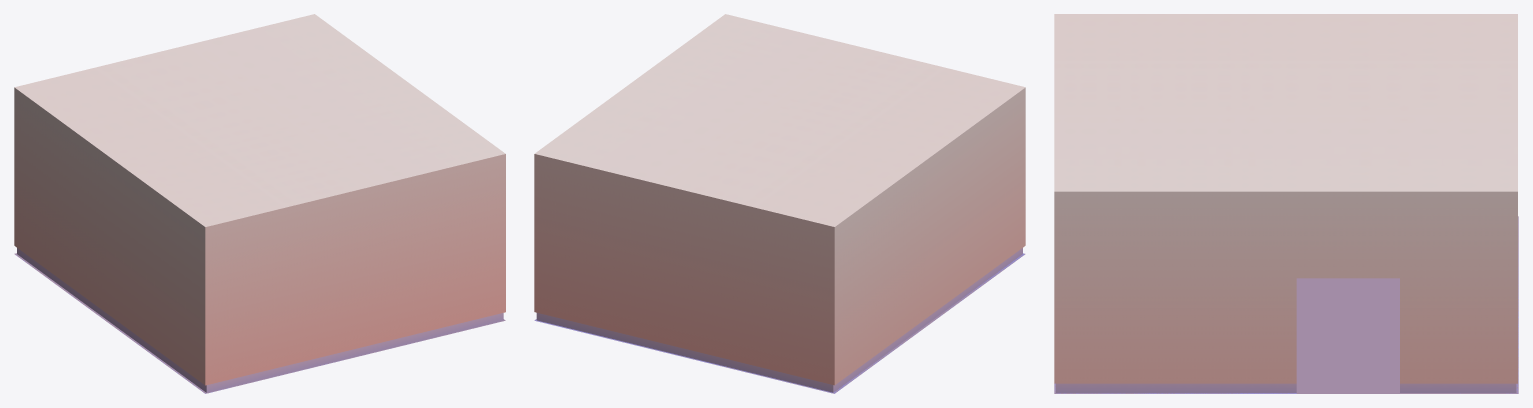
Rendered from MapRoom.fbx.
3 views of the same model, side by side, from view 1: azimuth 30°, elevation 25°; view 2: azimuth 150°, elevation 25°; view 3: azimuth 270°, elevation 25° (orthographic). The views are drawn at different scales.
Parts seen in each view (by area): view 1: Plane; view 2: Plane; view 3: Plane.
Part boxes in pixels (x1,y1,x2,y2): Plane: [14, 14, 505, 393]; Plane: [534, 14, 1025, 393]; Plane: [1054, 14, 1518, 393].
Bounding box in the file's own units: 1065 × 566 × 1175.
